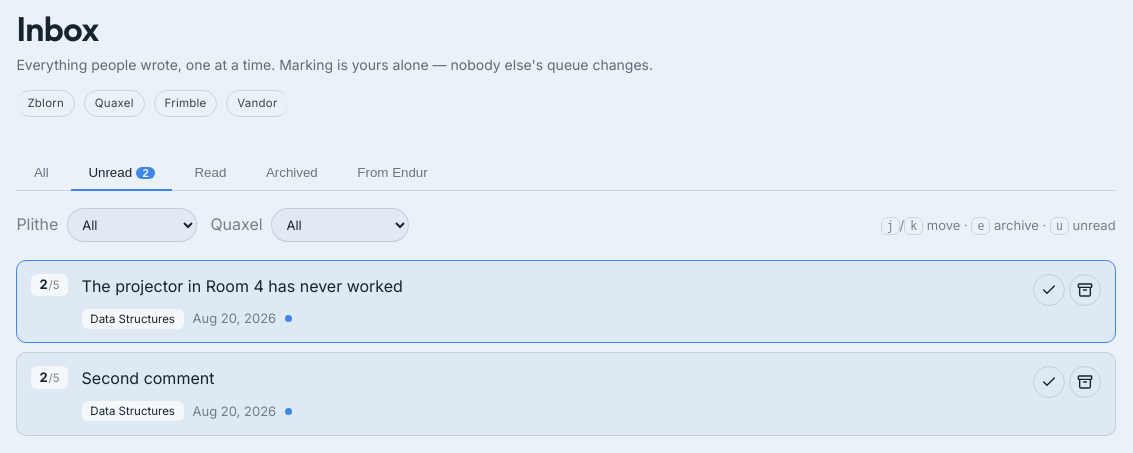
marking is optimistic and belongs to the reader › drops the unread count as the card leaves, rather than after a reload
Expected: the button "The projector in Room 4 has never worked" is shown, [82,274,1020,300]
Expected: the tab "Unread2" is shown, [71,156,172,191]
Click the 1st button titled "Archive (e)" at [1085, 290], box [1069,274,1101,306]
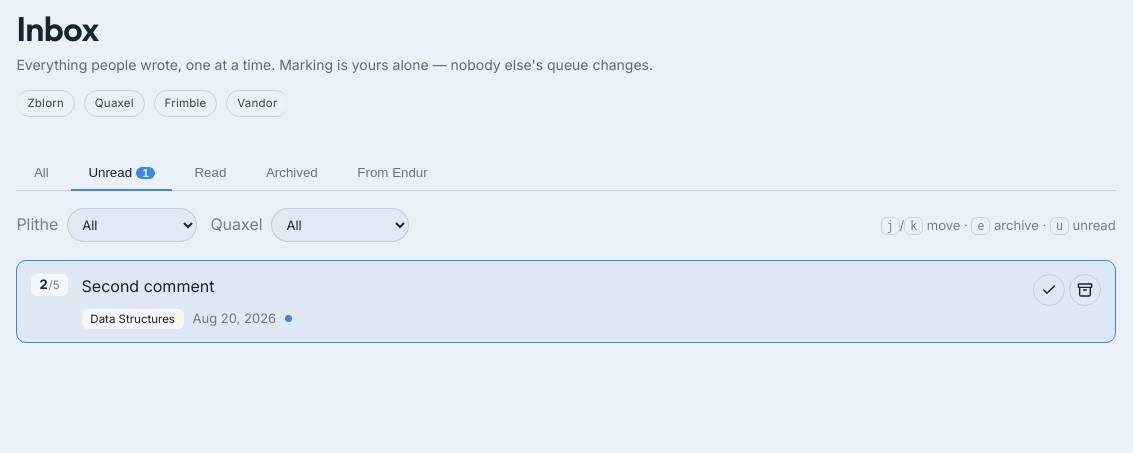
Now the tab "Unread1" is shown, box [71,156,172,191]
